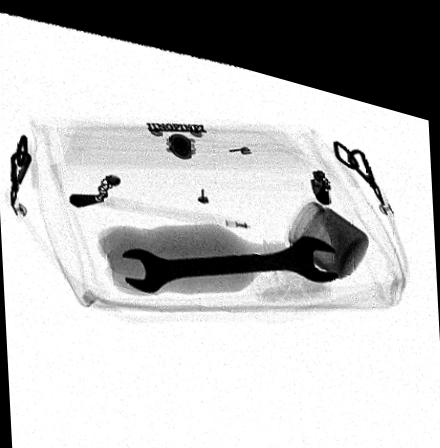Wrench: (114, 217, 343, 285)
